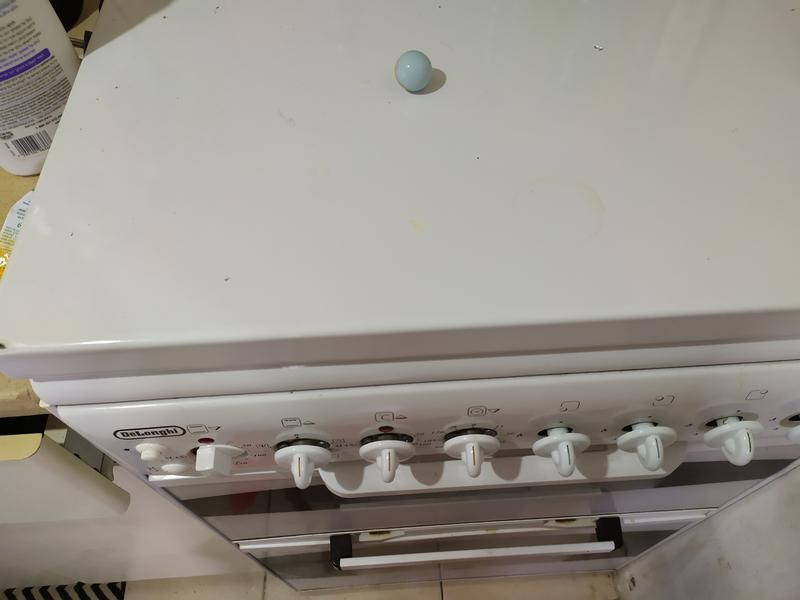Warning: (392, 49, 435, 94)
